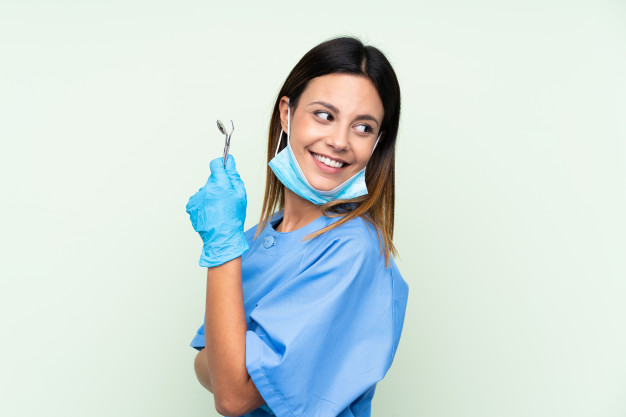mask_weared_incorrect: (269, 82, 385, 210)
